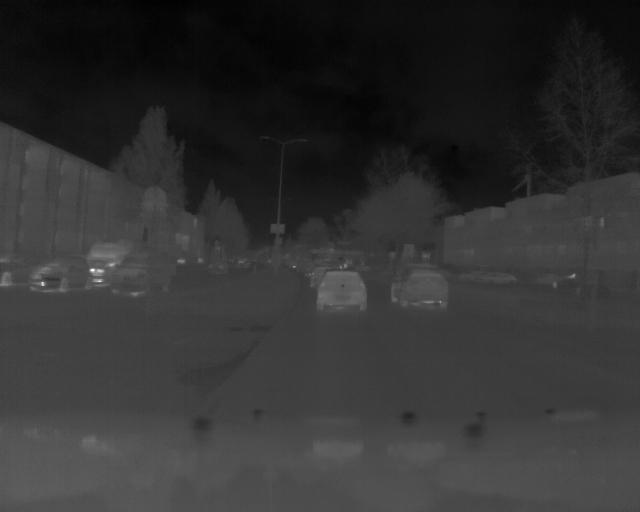car: (389, 264, 453, 317), (110, 251, 181, 298), (28, 254, 93, 297), (312, 269, 369, 318)
